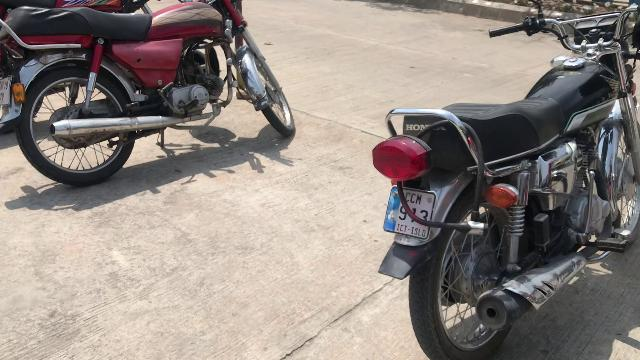plate: (381, 186, 434, 238)
